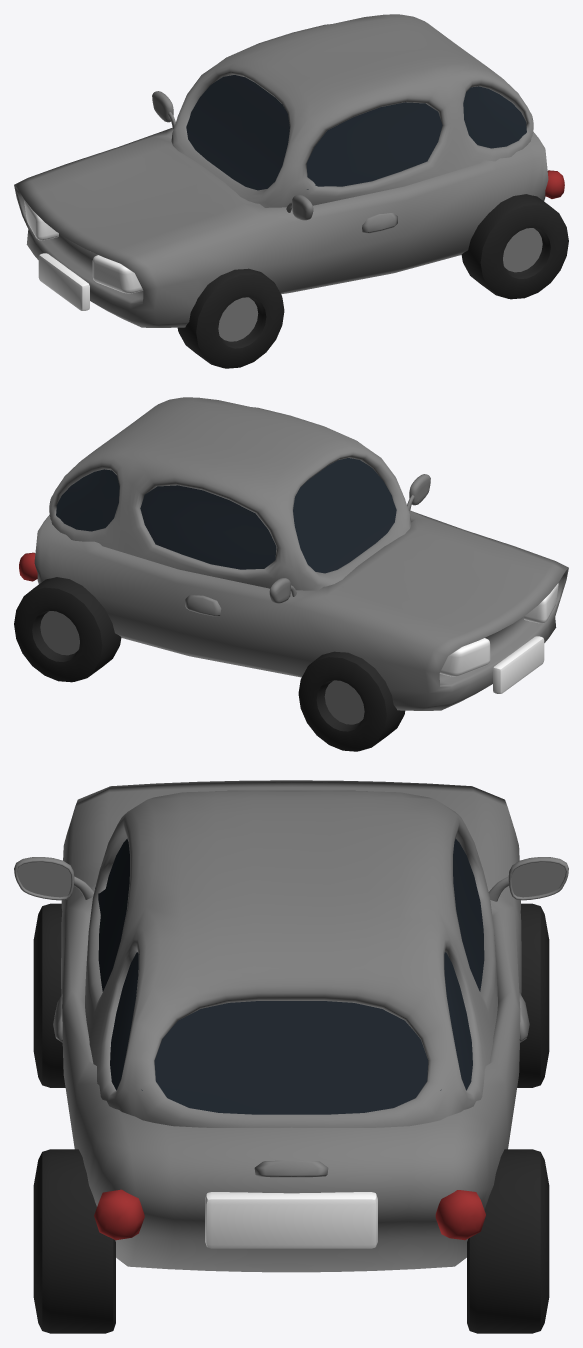
The model's file is SM_car_01.fbx.
The picture shows the model from 3 angles, top to bottom: view 1: azimuth 30°, elevation 25°; view 2: azimuth 150°, elevation 25°; view 3: azimuth 270°, elevation 25°; orthographic projection. The views are drawn at different scales.
Parts seen in each view (by area): view 1: Object293; view 2: Object293; view 3: Object293.
Boxes of the visible parts, <box> form: Object293: <box>14,14,568,368</box>; Object293: <box>14,397,568,751</box>; Object293: <box>14,780,568,1333</box>.
Bounding box in the file's own units: 161 × 72.52 × 94.41.
